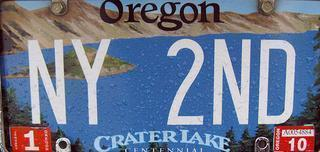placa de veiculo: (3, 2, 314, 152)
